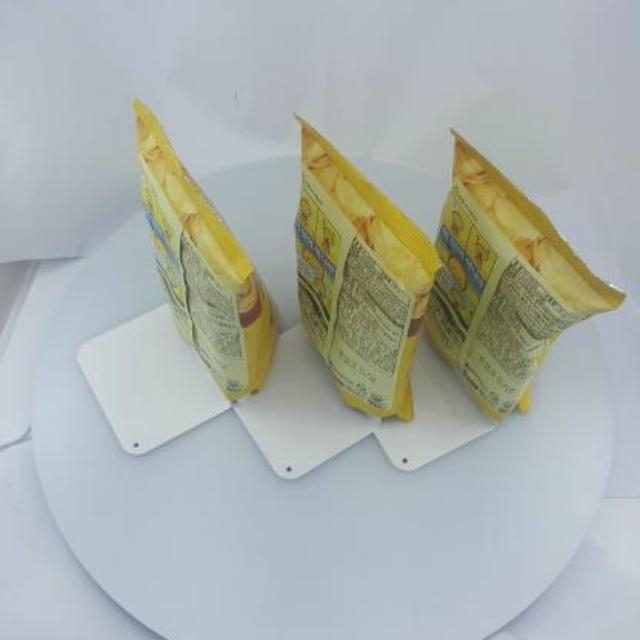snack_bag: (116, 80, 628, 443)
